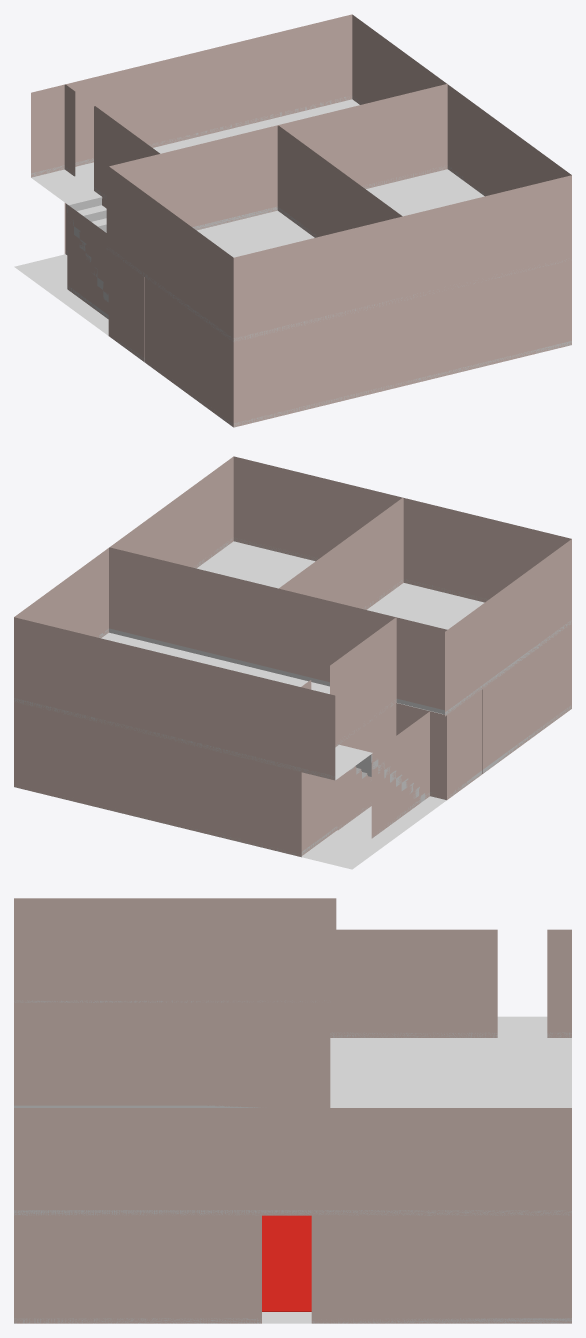
The model's file is House.fbx.
3 views of the same model, one above another, from view 1: azimuth 30°, elevation 25°; view 2: azimuth 150°, elevation 25°; view 3: azimuth 270°, elevation 25° (orthographic). The views are drawn at different scales.
Parts seen in each view (by area): view 1: Stairs.001; view 2: Stairs.001; view 3: Stairs.001.
Boxes of the visible parts, x1,y1,x2,y2 form: Stairs.001: (14,14,571,427); Stairs.001: (14,456,571,869); Stairs.001: (14,898,571,1323).
Size of the model in its own units: 1000 by 480 by 1125.
